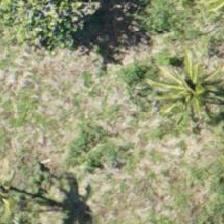coconut_tree: (151, 6, 223, 96)
